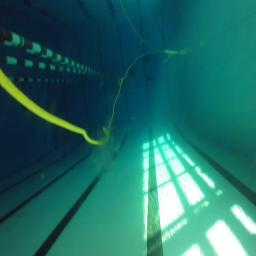Full: (146, 75, 154, 81), (129, 72, 136, 77)
